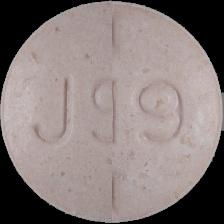68788-9156: (0, 0, 224, 224)
